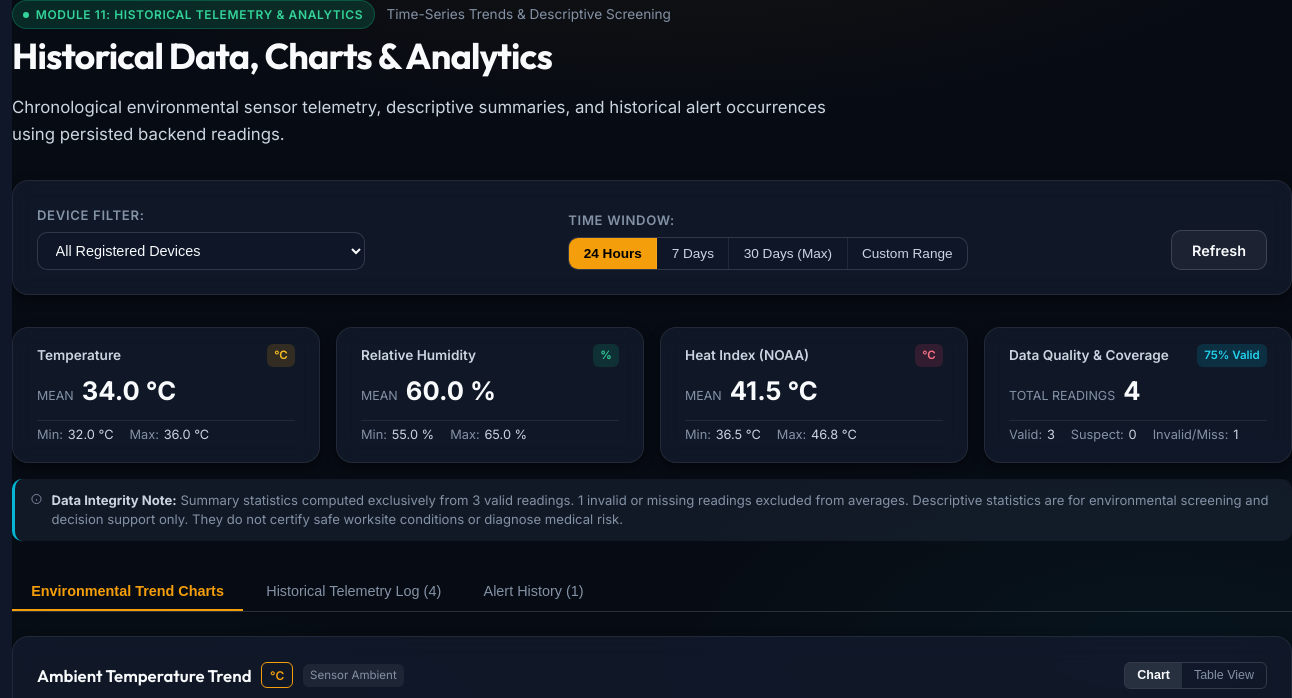
Scenario: Module 11: Historical Data, Charts & Analytics › 2. Switches time-range presets (24h, 7d, 30d, custom)
Note: Click 7 Days
Click the button "7 Days". click: (693, 253)
box: [657,238,729,269]
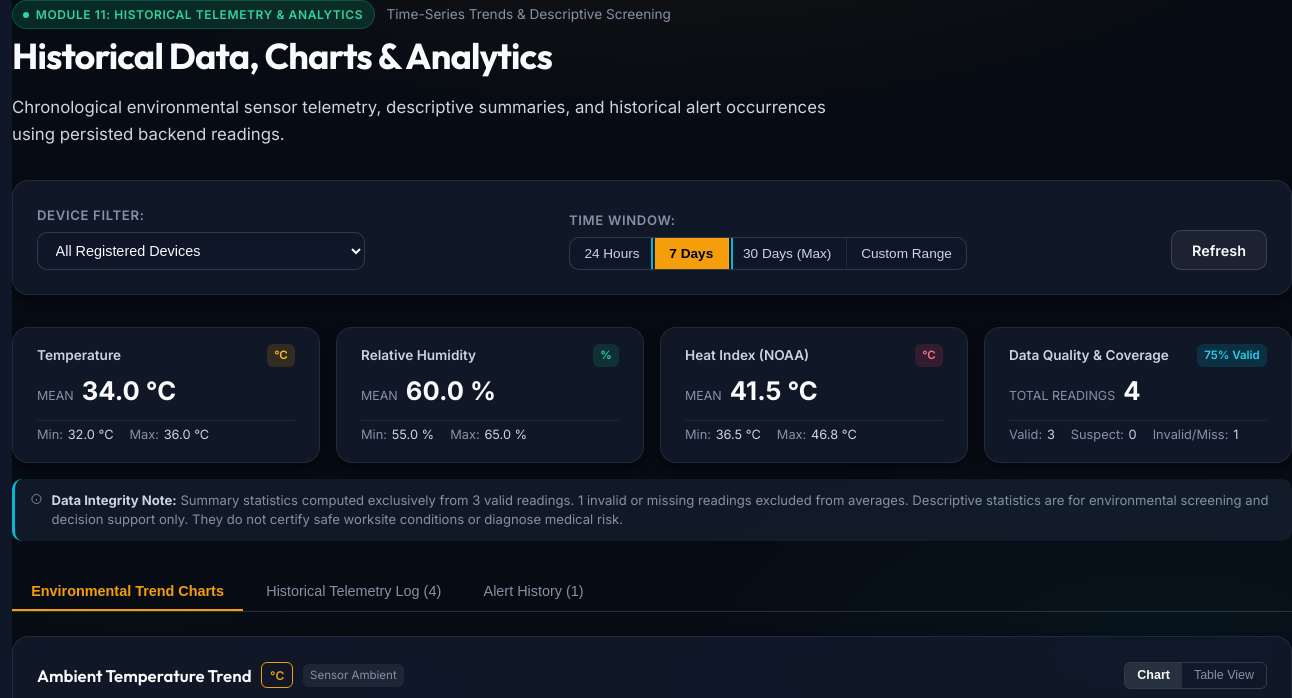
Now the button "7 Days" has class "active", box [655,238,729,269]
Note: Click 30 Days
Click the button "30 Days (Max)". click: (788, 253)
box: [729,238,847,269]
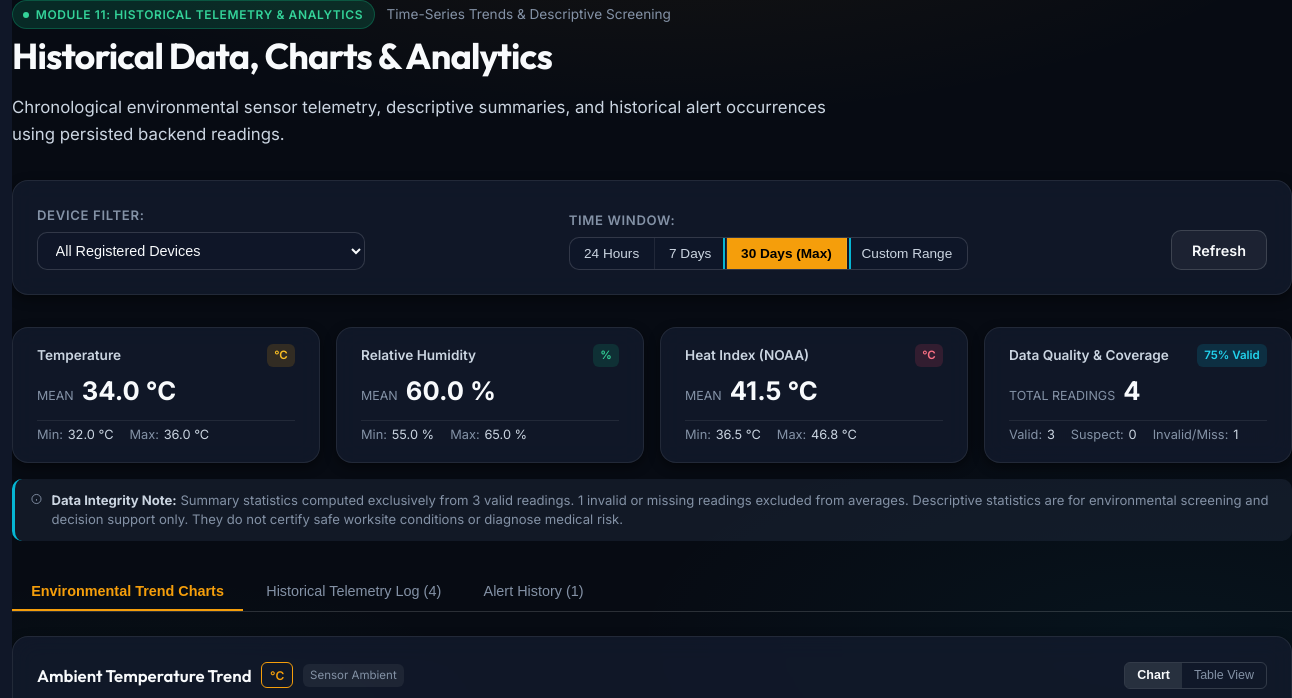
Now the button "30 Days (Max)" has class "active", box [727,238,847,269]
Note: Click Custom Range
Click the button "Custom Range". click: (907, 253)
box: [847,238,967,269]
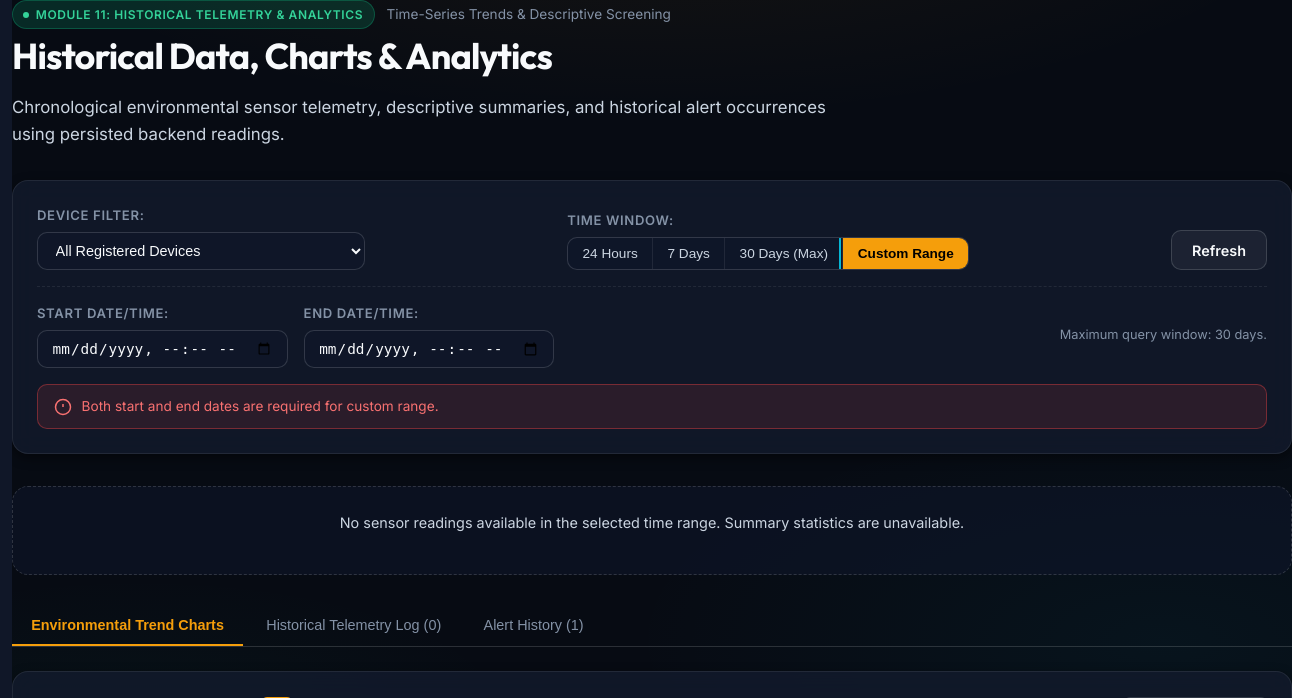
Now the field labelled "Start Date/Time:" is shown, box [37,330,288,368]
Now the field labelled "End Date/Time:" is shown, box [304,330,554,368]
